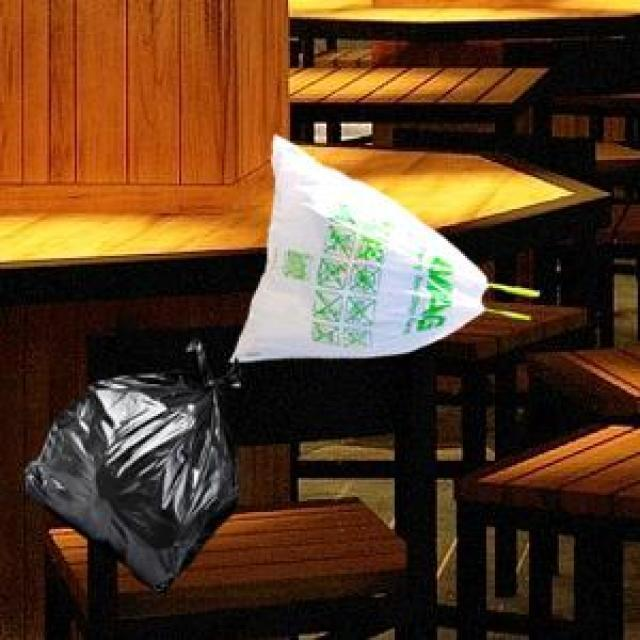miscellaneous trash: (21, 335, 237, 591)
